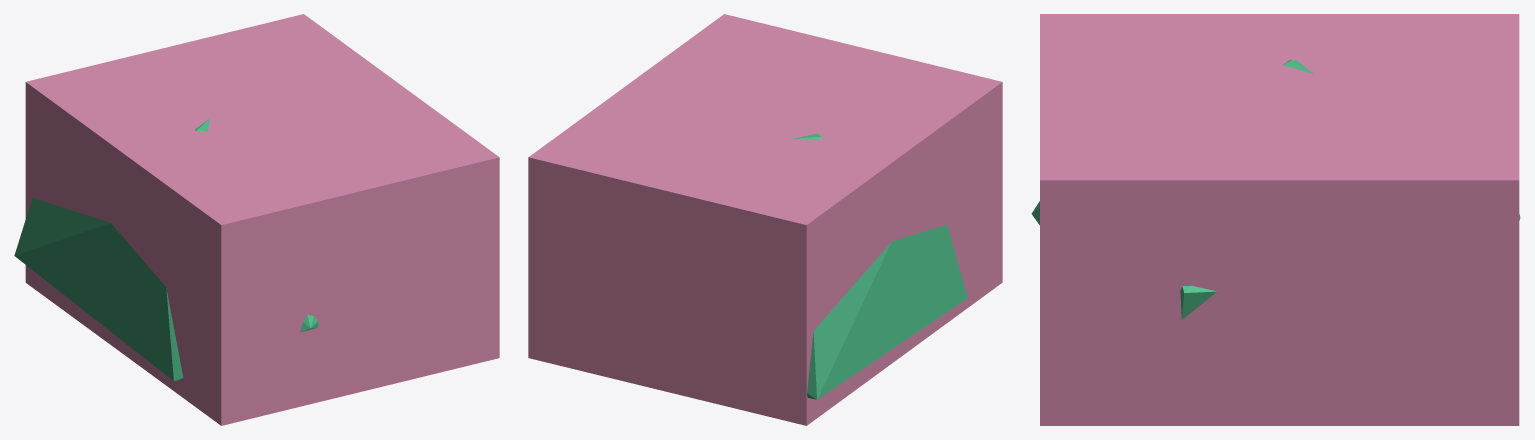
File: rock_01_a_small_c.dae
3 renders of one model, left to right at view 1: azimuth 30°, elevation 25°; view 2: azimuth 150°, elevation 25°; view 3: azimuth 270°, elevation 25°, orthographic. The views are drawn at different scales.
Parts seen in each view (by area): view 1: Untitled, Colmesh-1; view 2: Untitled, Colmesh-1; view 3: Untitled, Colmesh-1.
Boxes of the visible parts, box(x1,y1,x2,y2) form: Untitled: box(25, 14, 499, 425); Colmesh-1: box(14, 119, 318, 381); Untitled: box(528, 14, 1002, 425); Colmesh-1: box(791, 133, 967, 399); Untitled: box(1040, 14, 1519, 425); Colmesh-1: box(1031, 60, 1520, 319).
Bounding box in the file's own units: 0.373 × 0.4389 × 0.2493.
